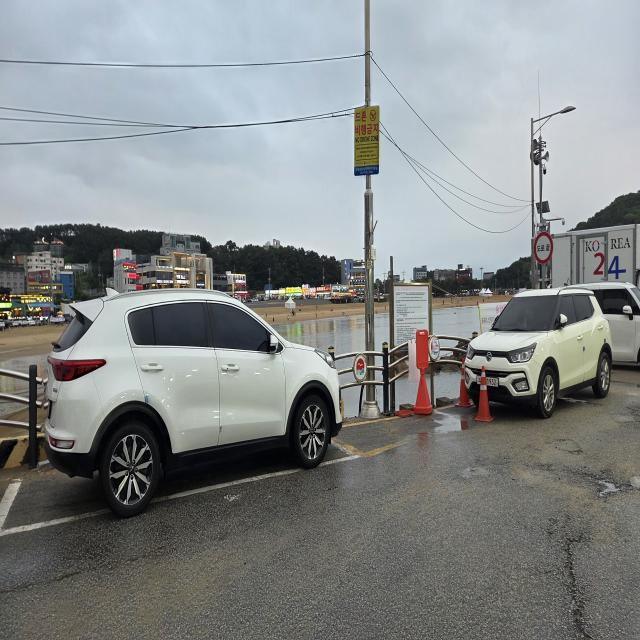car: (29, 267, 364, 524), (454, 277, 622, 429)
